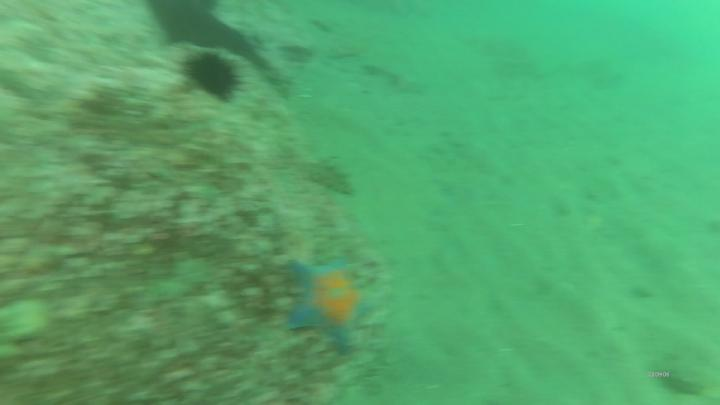echinus: (177, 46, 248, 106)
holothurian: (311, 154, 354, 196)
starfish: (287, 252, 379, 353)
